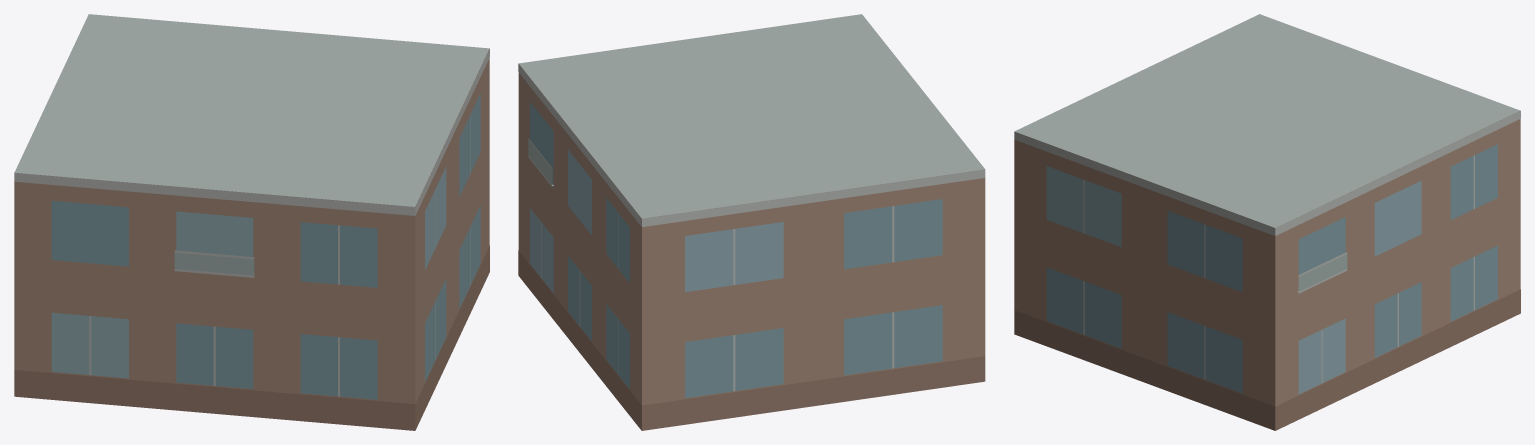
Rendered from survey-upis-32779307.glb.
The picture shows the model from 3 angles, left to right: view 1: azimuth 30°, elevation 25°; view 2: azimuth 150°, elevation 25°; view 3: azimuth 270°, elevation 25°; orthographic projection. The views are drawn at different scales.
Visible parts, largest first — view 1: survey-upis-32779307.tmp; view 2: survey-upis-32779307.tmp; view 3: survey-upis-32779307.tmp.
Part boxes in pixels (x1,y1,x2,y2): survey-upis-32779307.tmp: (14,14,489,430); survey-upis-32779307.tmp: (518,14,985,430); survey-upis-32779307.tmp: (1014,14,1520,430).
Size of the model in its own units: 13.81 by 6.1 by 13.81.
